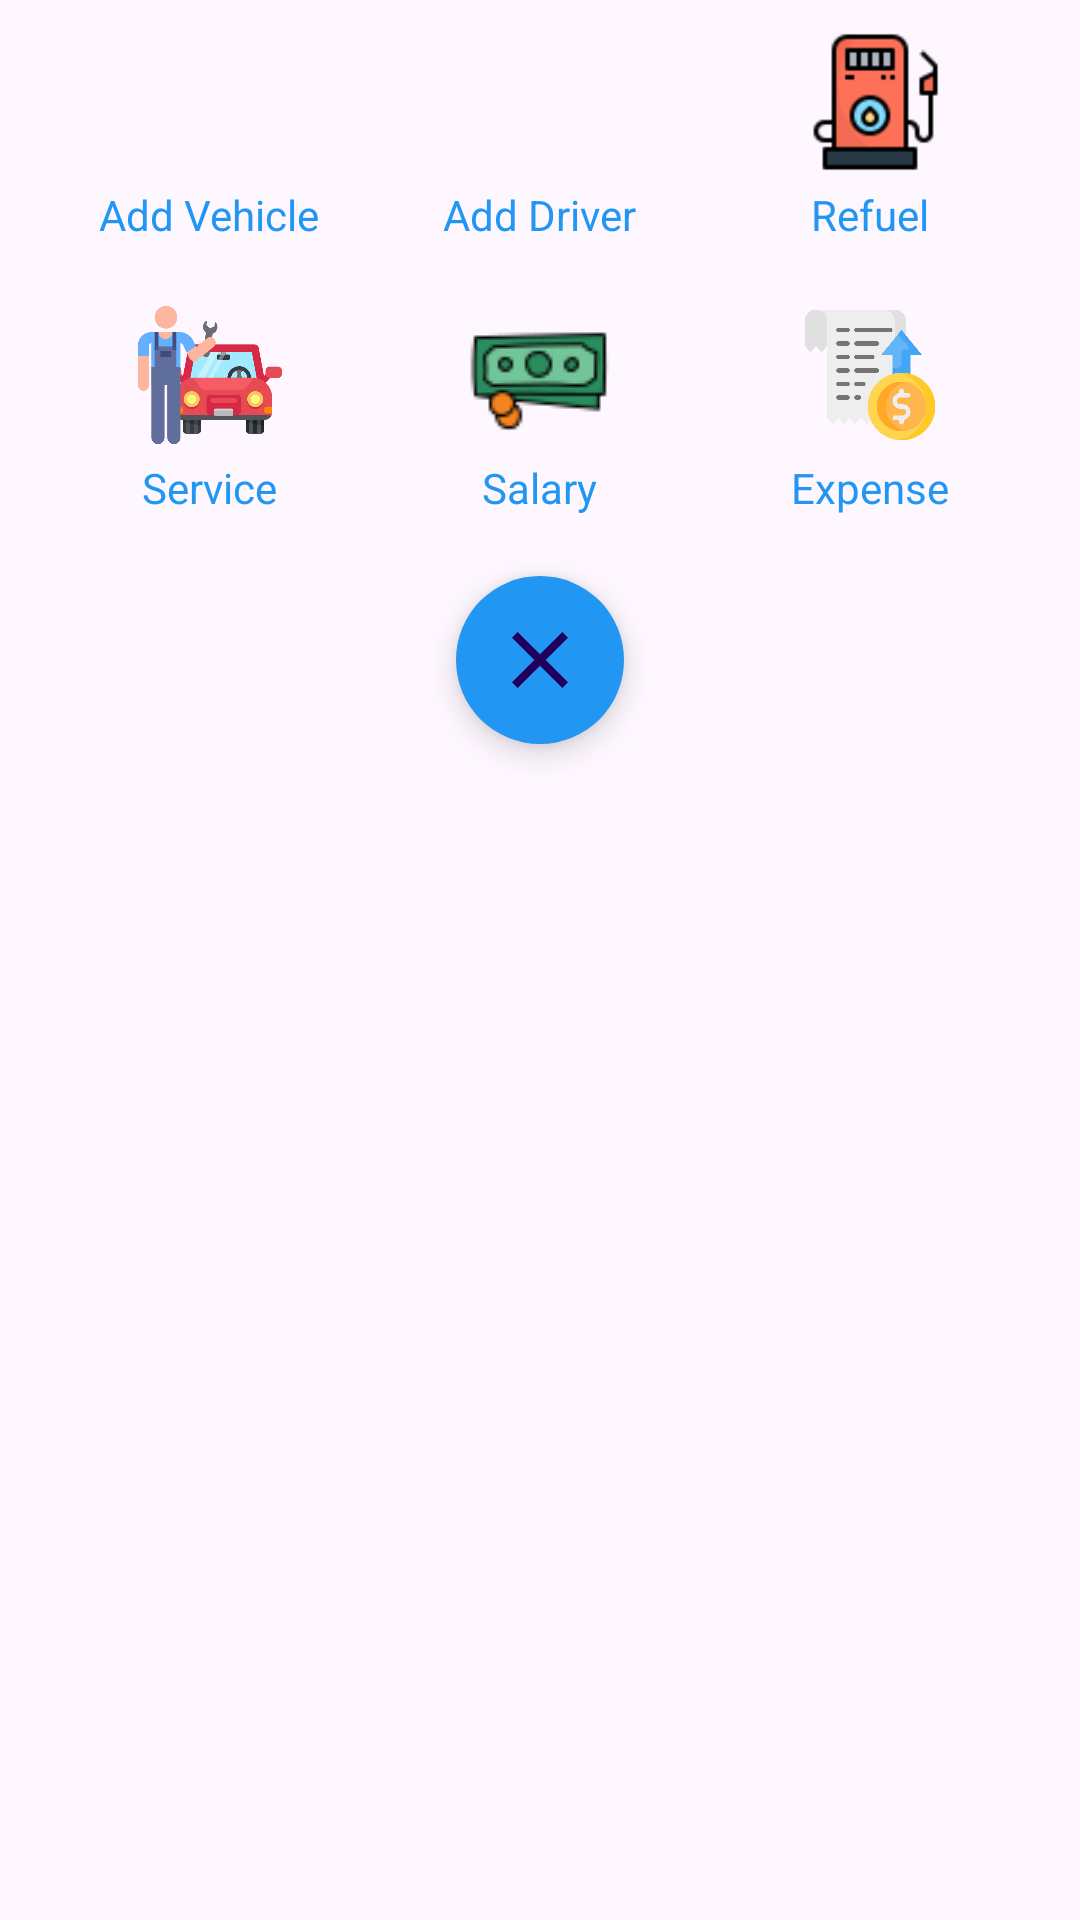

Named icons in this screenshot (1080px×1920px) and their bounding boxes, (x1, y1, x2, y2):
cash: (470, 332, 607, 430)
close: (456, 576, 624, 744)
repair: (138, 306, 282, 444)
